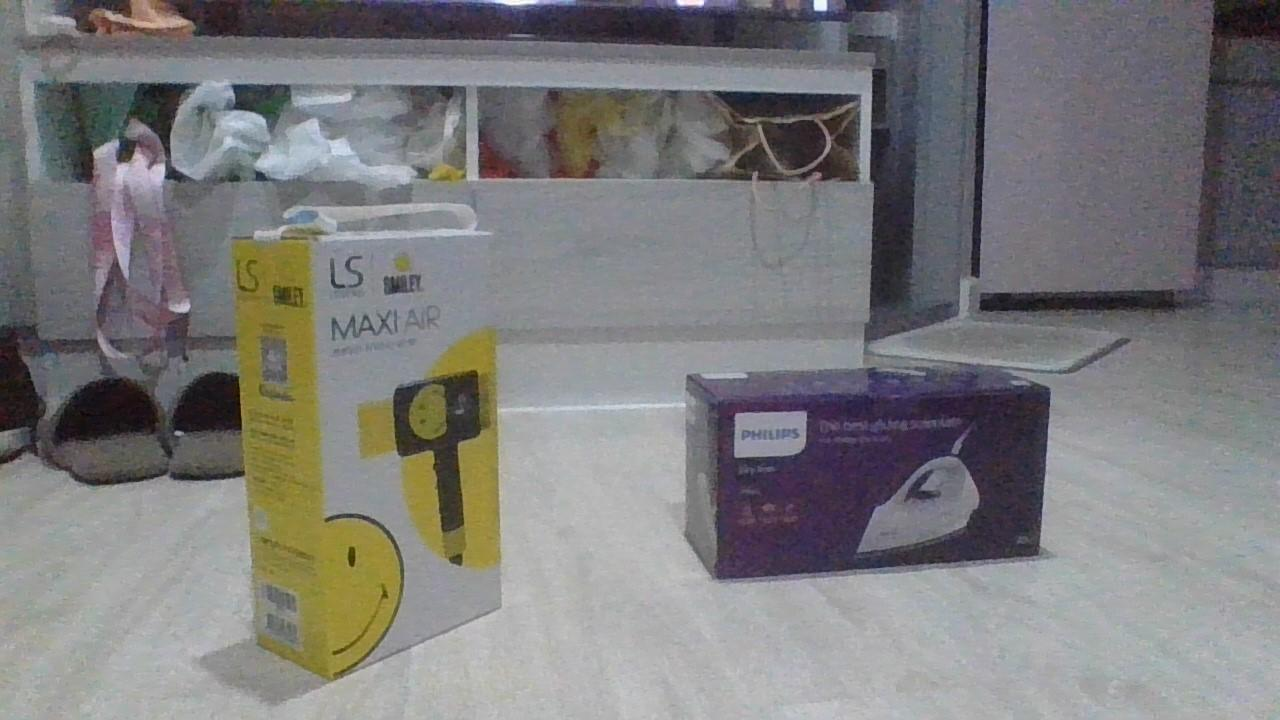Dryer: (226, 201, 507, 681)
IRON: (678, 358, 1054, 585)
